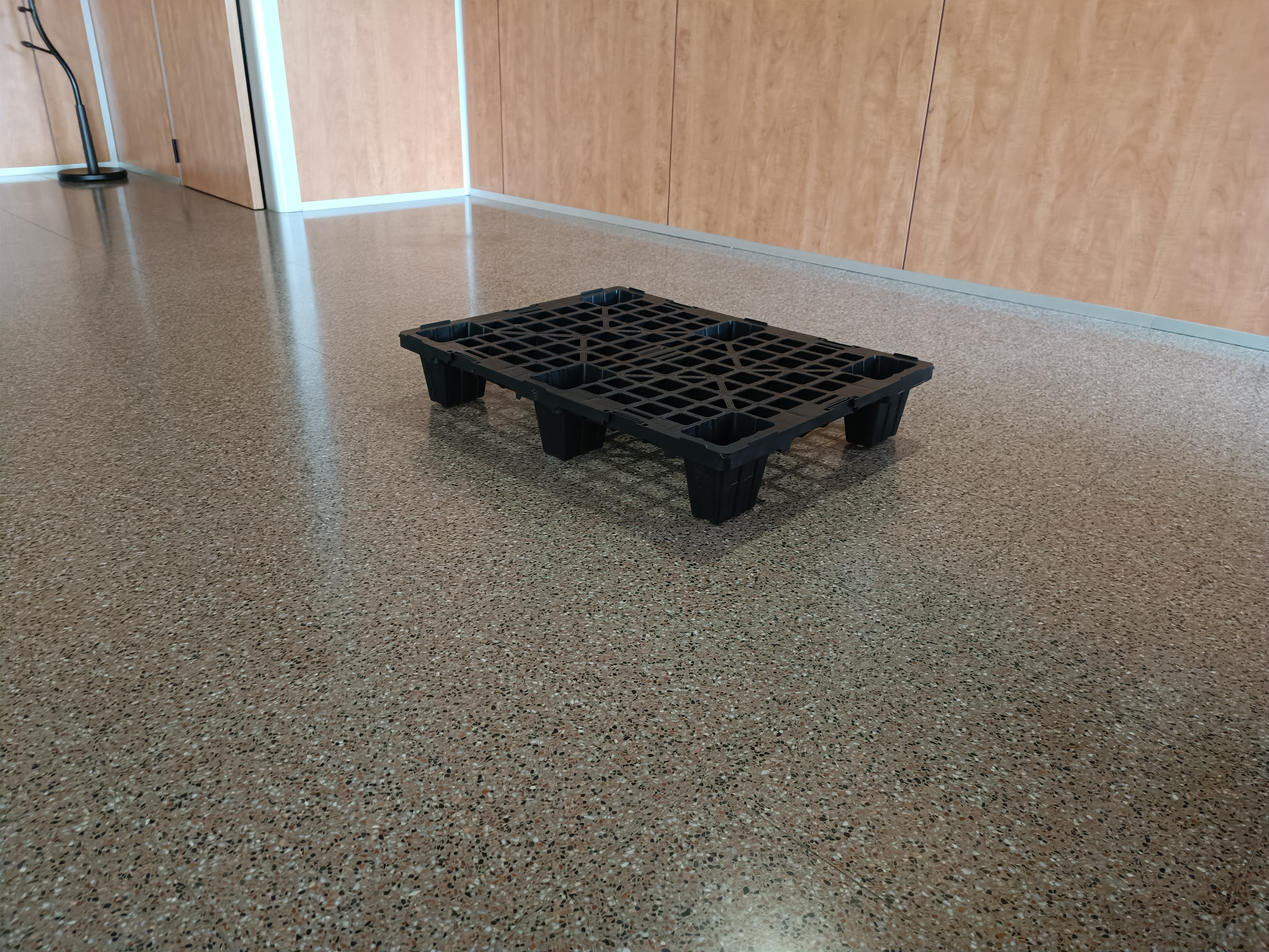block: (685, 438, 765, 525), (541, 392, 608, 459), (420, 355, 491, 414), (843, 390, 911, 448)
front: (390, 335, 723, 547)
hole pallet: (586, 412, 685, 510), (452, 360, 542, 447)
